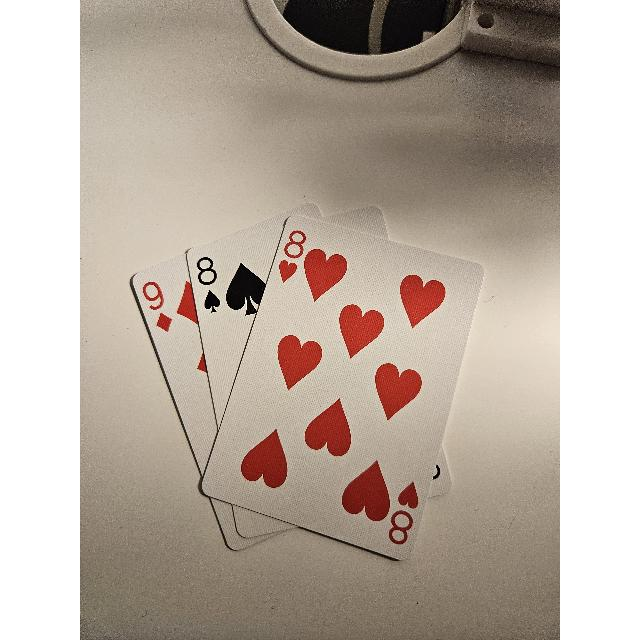8H: (388, 478, 419, 546), (277, 223, 305, 287)
8S: (195, 253, 225, 315)
9D: (140, 278, 178, 334)
